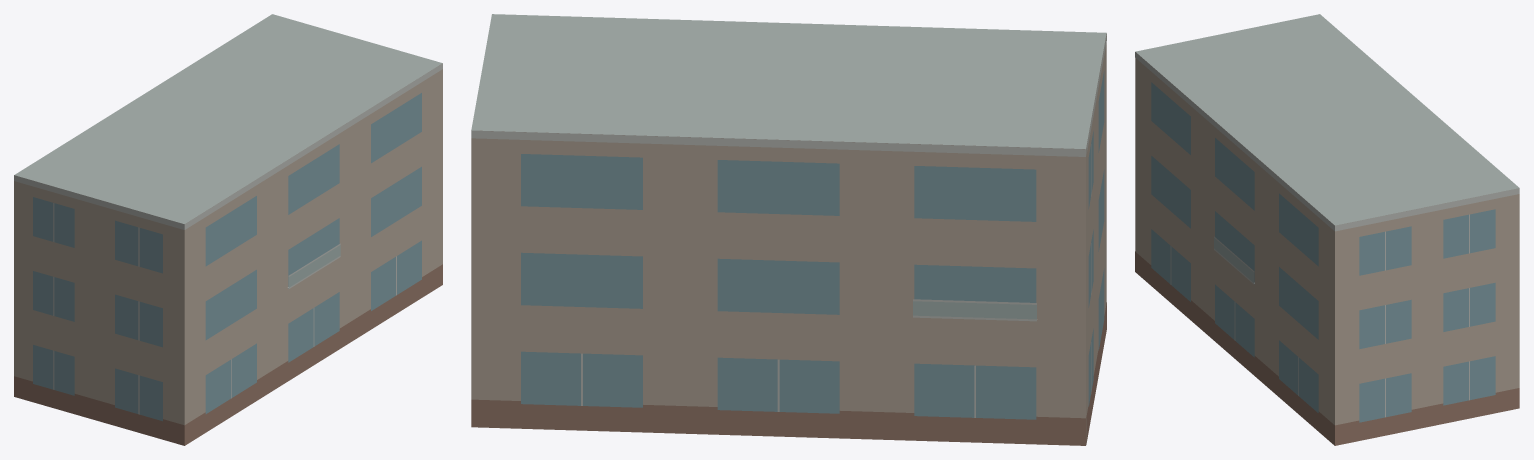
The model's file is survey-upis-32707519.glb.
The picture shows the model from 3 angles, left to right: view 1: azimuth 30°, elevation 25°; view 2: azimuth 150°, elevation 25°; view 3: azimuth 270°, elevation 25°; orthographic projection. The views are drawn at different scales.
Parts seen in each view (by area): view 1: survey-upis-32707519.tmp; view 2: survey-upis-32707519.tmp; view 3: survey-upis-32707519.tmp.
Part boxes in pixels (<box>): survey-upis-32707519.tmp: <box>14,14,442,445</box>; survey-upis-32707519.tmp: <box>471,14,1106,445</box>; survey-upis-32707519.tmp: <box>1135,14,1519,445</box>.
Size of the model in its own units: 18.86 by 9.15 by 14.49.
